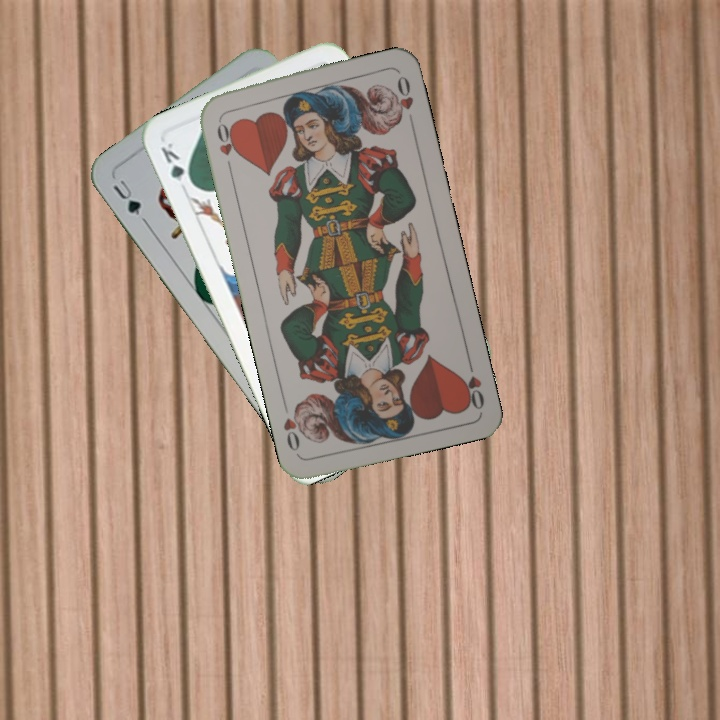GK: (157, 139, 196, 190)
GU: (108, 175, 144, 218)
HO: (457, 354, 487, 413), (213, 114, 241, 173)
